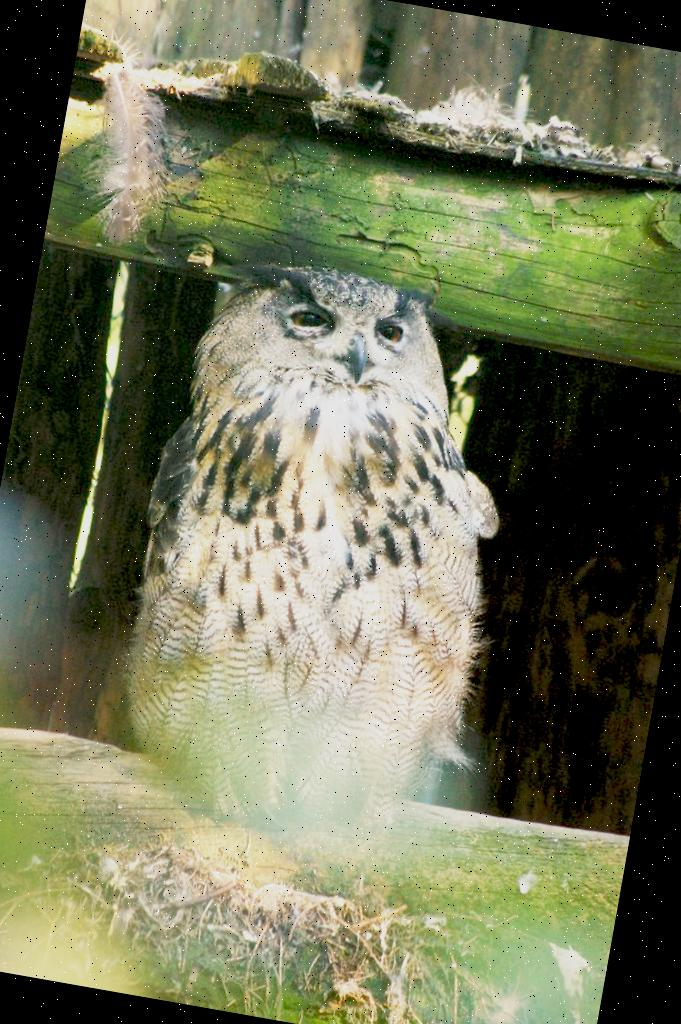Owl: (95, 243, 548, 869)
